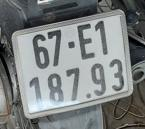1: (91, 20, 116, 59), (24, 75, 49, 114)
3: (107, 56, 128, 95)
6: (31, 32, 52, 74)
7: (45, 28, 68, 70), (63, 63, 84, 106)
8: (43, 69, 68, 112)
9: (87, 60, 112, 100)
E: (73, 23, 99, 64)
